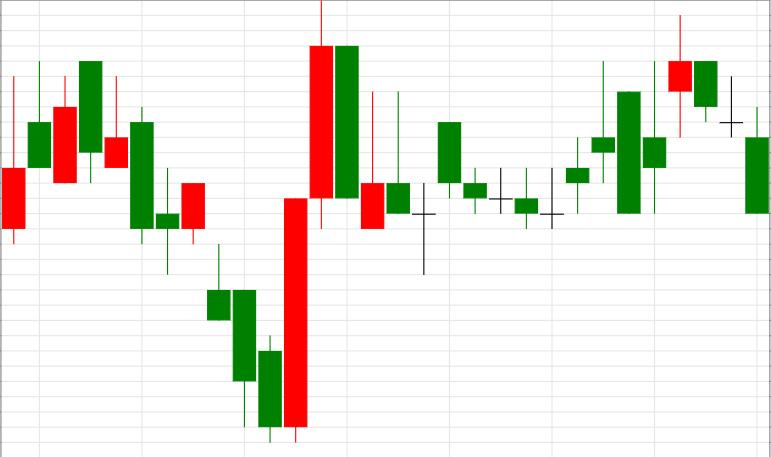bullish_engulfing_rise: (131, 106, 307, 443)
